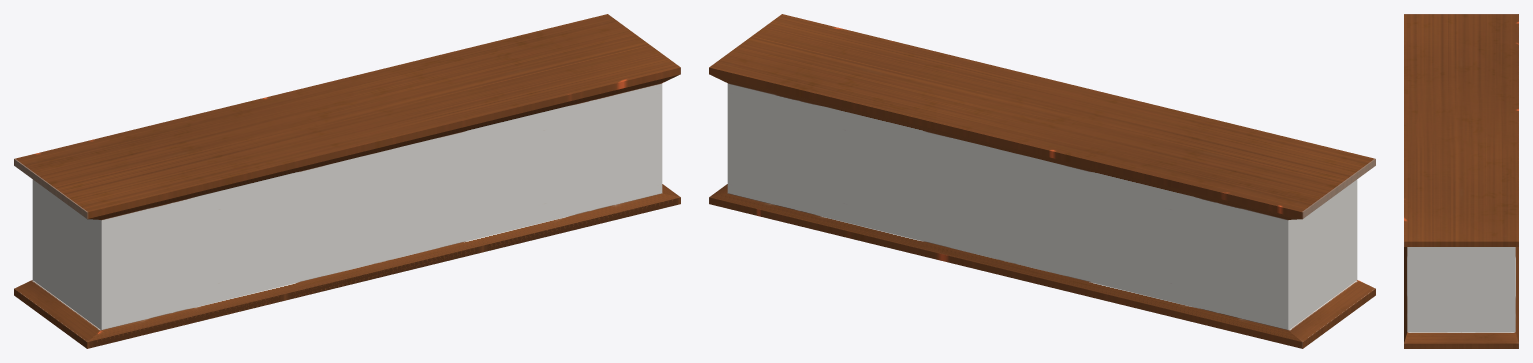
File: Meja 6.fbx
3 views of the same model, side by side, from view 1: azimuth 30°, elevation 25°; view 2: azimuth 150°, elevation 25°; view 3: azimuth 270°, elevation 25° (orthographic). The views are drawn at different scales.
Visible parts, largest first — view 1: Meja 6; view 2: Meja 6; view 3: Meja 6.
Part boxes in pixels (x1,y1,x2,y2): Meja 6: (14, 14, 680, 348); Meja 6: (709, 14, 1375, 348); Meja 6: (1404, 14, 1518, 348).
Size of the model in its own units: 292 by 64.13 by 62.24.
